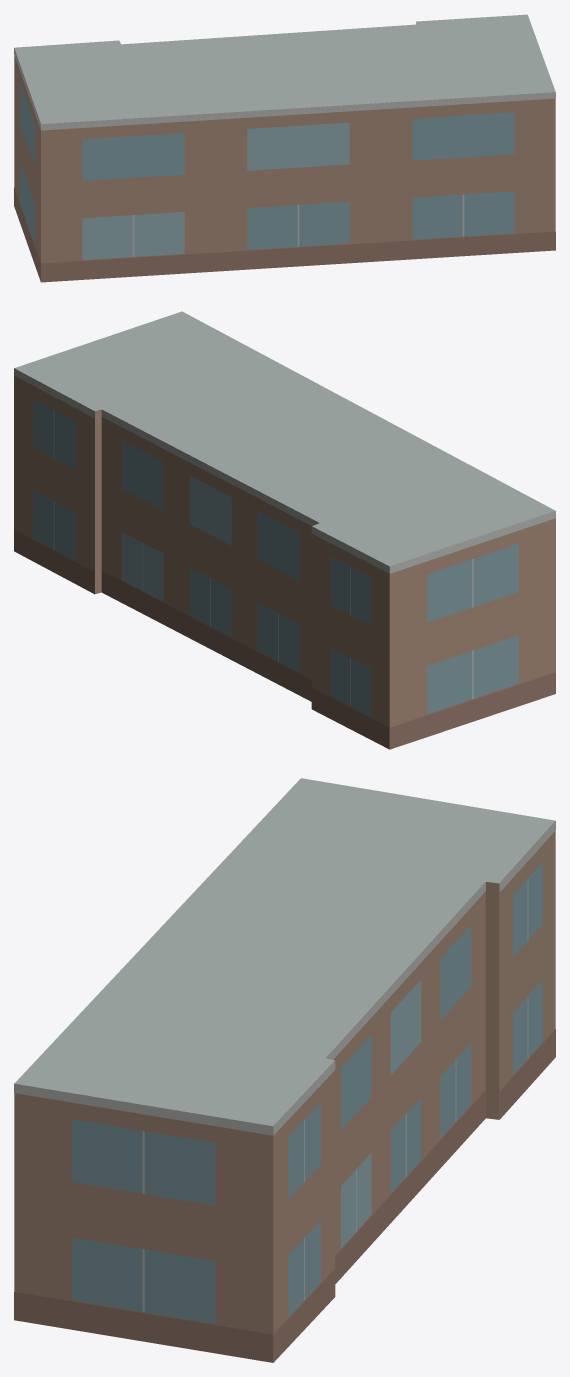
Rendered from survey-upis-32578150.glb.
The picture shows the model from 3 angles, top to bottom: view 1: azimuth 30°, elevation 25°; view 2: azimuth 150°, elevation 25°; view 3: azimuth 270°, elevation 25°; orthographic projection. The views are drawn at different scales.
Visible parts, largest first — view 1: survey-upis-32578150.tmp; view 2: survey-upis-32578150.tmp; view 3: survey-upis-32578150.tmp.
Boxes of the visible parts, x1,y1,x2,y2 form: survey-upis-32578150.tmp: (14,14,555,282); survey-upis-32578150.tmp: (14,311,555,749); survey-upis-32578150.tmp: (14,778,555,1362).
Size of the model in its own units: 19.28 by 6.1 by 12.67.
